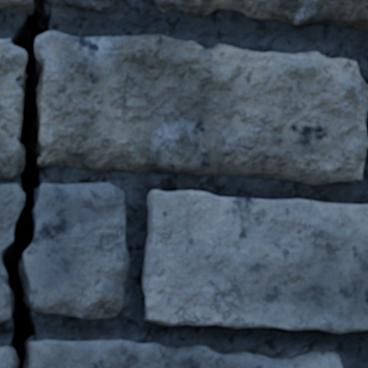brick: (142, 190, 367, 333), (155, 0, 367, 28)
broken_brick: (36, 30, 367, 185), (25, 182, 130, 319), (32, 339, 343, 367), (0, 38, 25, 179), (0, 182, 23, 250), (52, 0, 126, 12), (0, 264, 11, 323), (0, 0, 32, 11), (0, 345, 10, 367)
crack: (0, 0, 53, 367)
